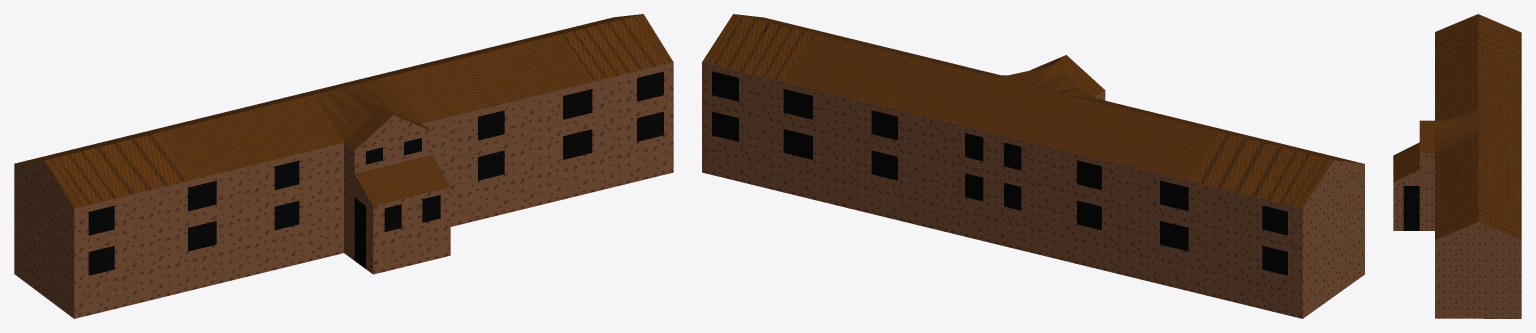
Rendered from williams.obj.
3 renders of one model, left to right at view 1: azimuth 30°, elevation 25°; view 2: azimuth 150°, elevation 25°; view 3: azimuth 270°, elevation 25°, orthographic. The views are drawn at different scales.
Bounding box in the file's own units: 7.23 × 1.57 × 1.88.
